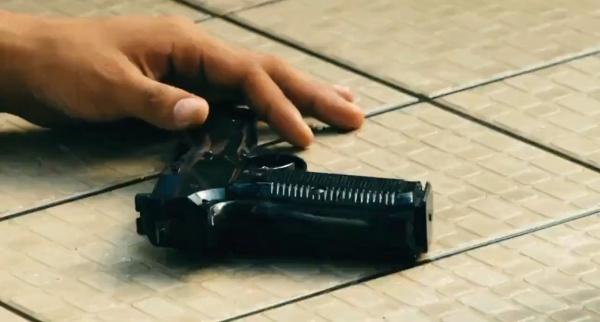Gun: (134, 94, 437, 270)
